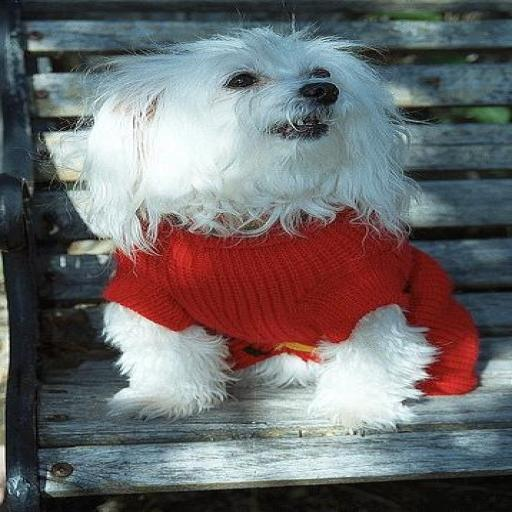dog_face: (66, 35, 422, 237)
